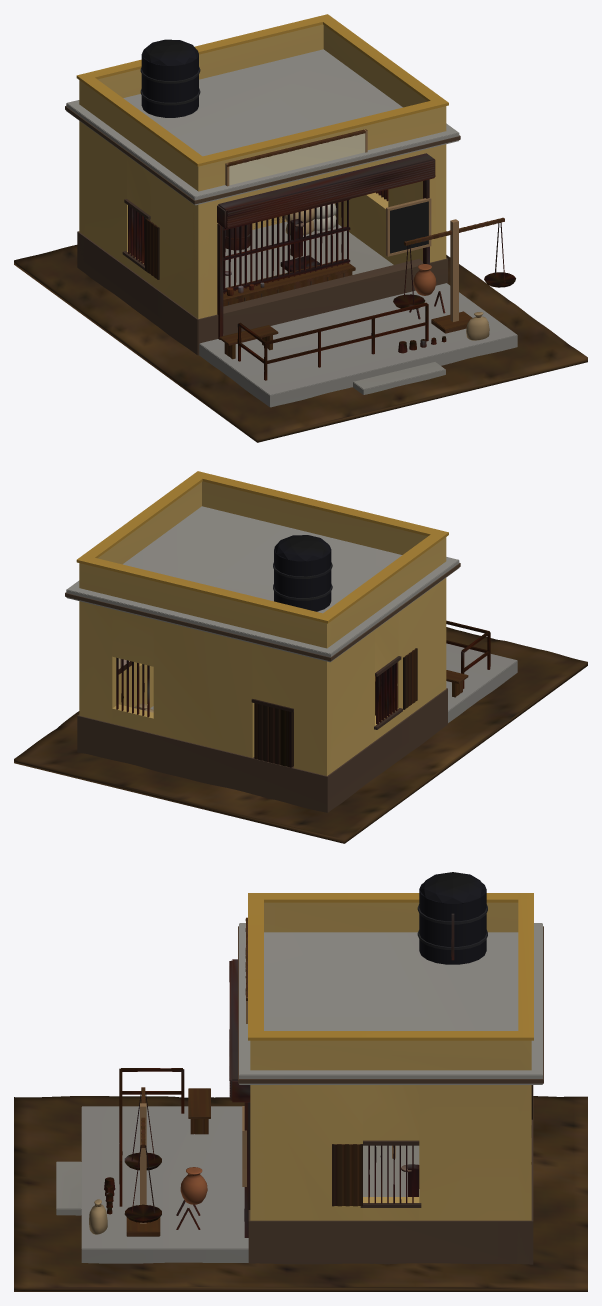
Rendered from ration_shop_v2.glb.
The picture shows the model from 3 angles, top to bottom: view 1: azimuth 30°, elevation 25°; view 2: azimuth 150°, elevation 25°; view 3: azimuth 270°, elevation 25°; orthographic projection. The views are drawn at different scales.
Visible parts, largest first — view 1: hb_main, hb_metal, hb_props; view 2: hb_main, hb_props, hb_metal; view 3: hb_main, hb_metal, hb_props.
Boxes of the visible parts, box(x1,y1,x2,y2) form: hb_main: box(14, 14, 587, 442); hb_metal: box(128, 153, 515, 380); hb_props: box(122, 129, 504, 359); hb_main: box(14, 471, 587, 843); hb_props: box(118, 648, 468, 767); hb_metal: box(116, 620, 490, 724); hb_main: box(14, 872, 587, 1291); hb_metal: box(104, 913, 531, 1237); hb_props: box(126, 917, 532, 1236).
Size of the model in its own units: 8 by 5.48 by 10.2.
